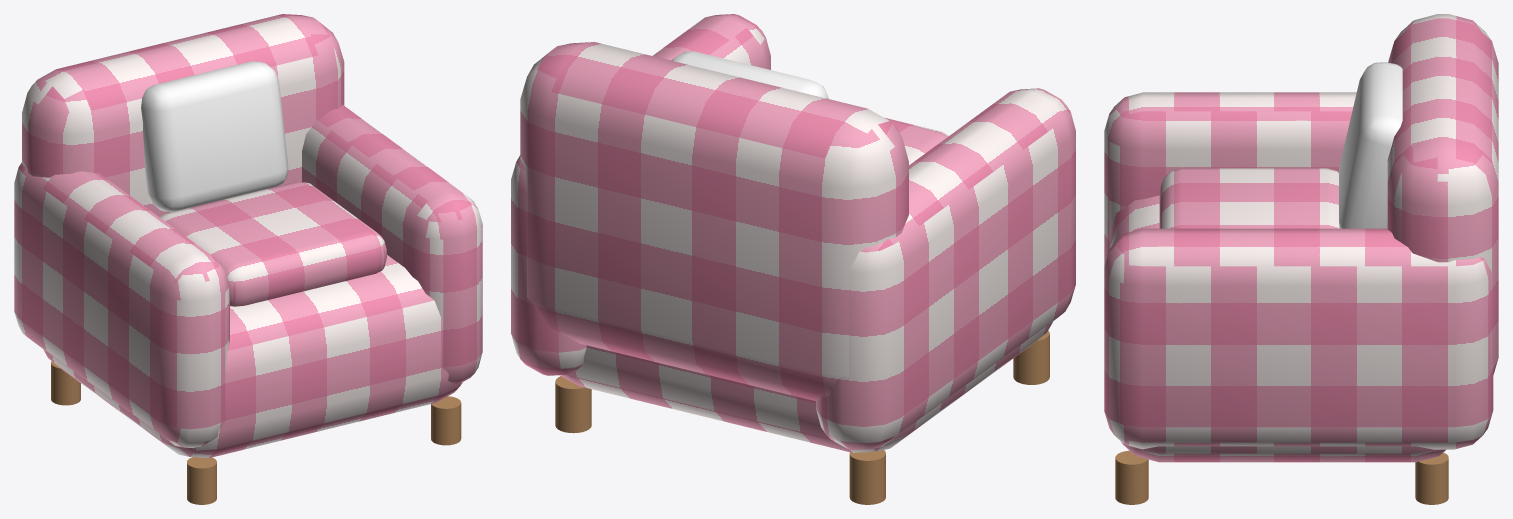
The model's file is armchair.glb.
The picture shows the model from 3 angles, left to right: view 1: azimuth 30°, elevation 25°; view 2: azimuth 150°, elevation 25°; view 3: azimuth 270°, elevation 25°; orthographic projection. The views are drawn at different scales.
Parts seen in each view (by area): view 1: armchair; view 2: armchair; view 3: armchair.
Boxes of the visible parts, x1,y1,x2,y2 form: armchair: [14, 14, 482, 504]; armchair: [511, 14, 1075, 504]; armchair: [1104, 14, 1498, 504].
Bounding box in the file's own units: 0.73 × 0.7 × 0.71.
Materials: 3 (1 with a texture image).
